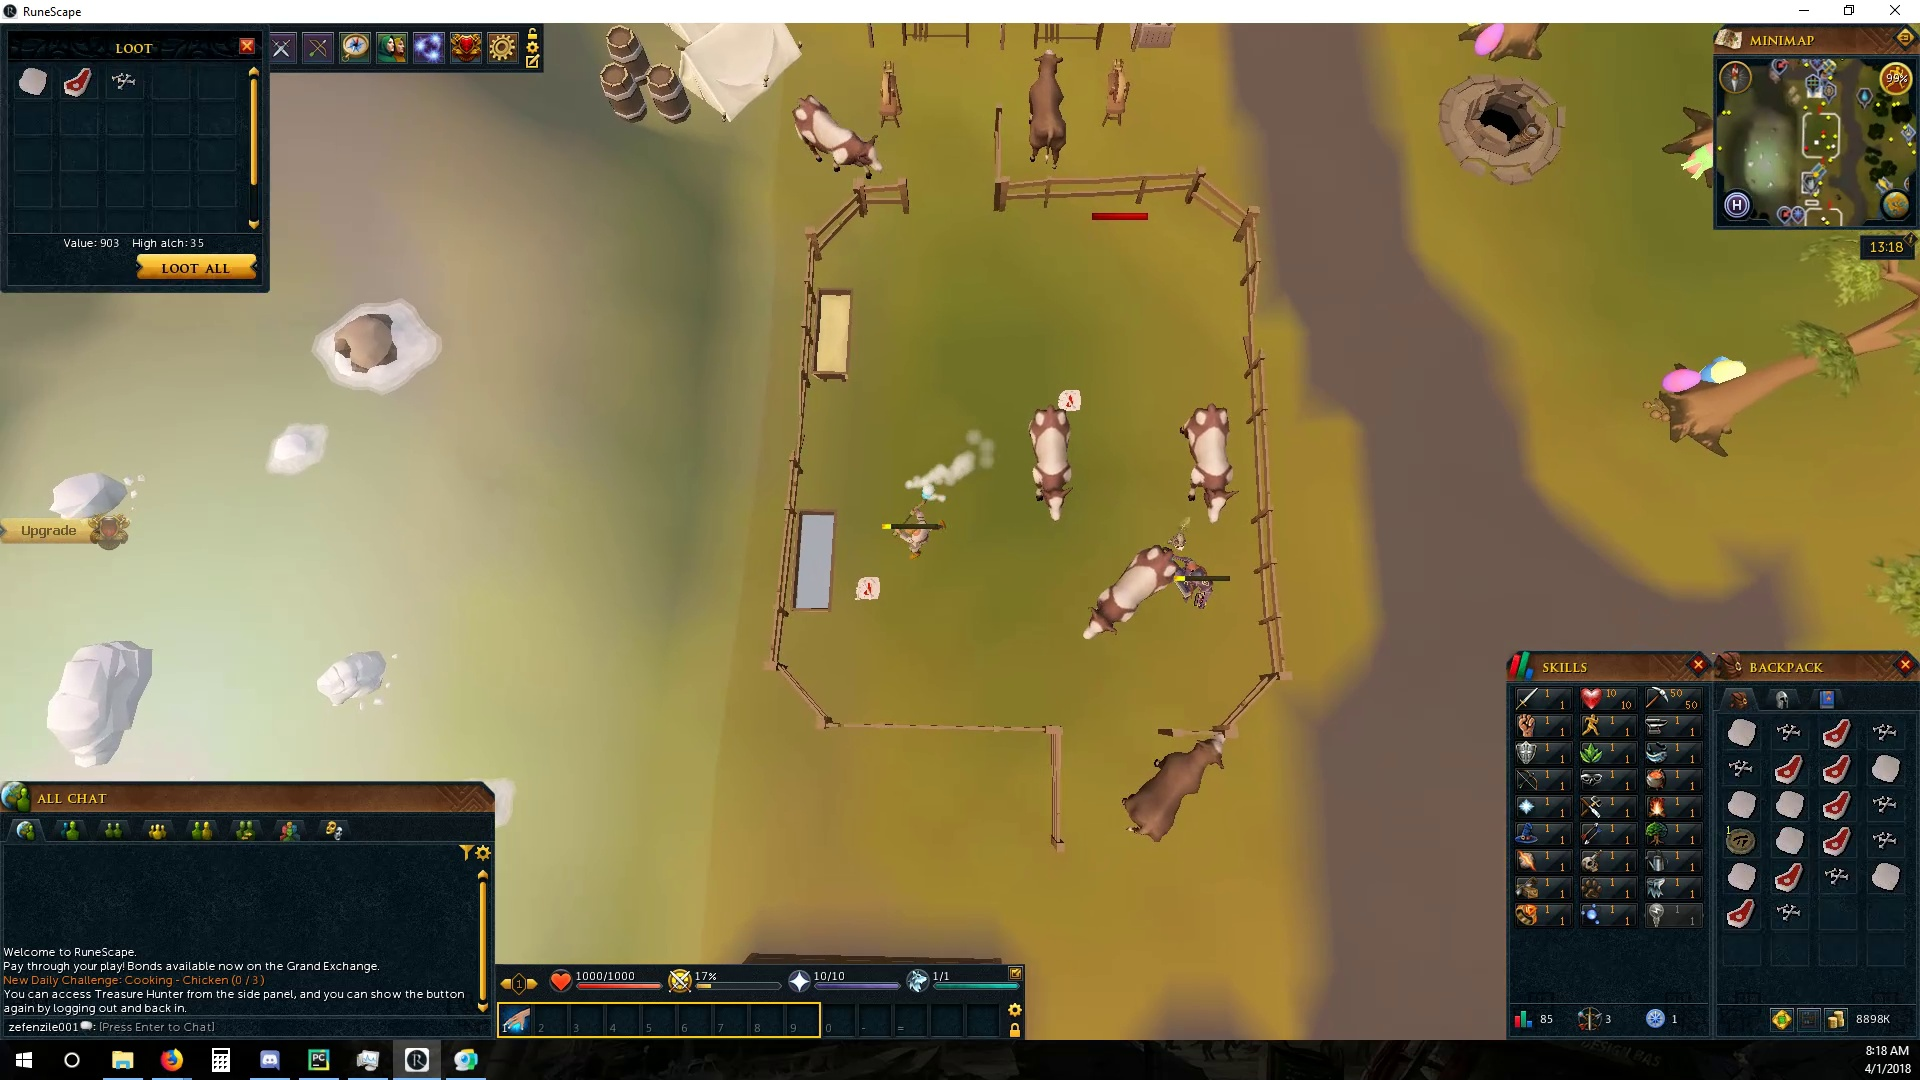cow: (1116, 735, 1226, 847), (1079, 541, 1189, 647), (1175, 400, 1244, 526), (786, 91, 882, 181), (1021, 401, 1079, 526), (1022, 47, 1069, 167)
cow_drop: (855, 574, 886, 600), (1059, 385, 1085, 411)
